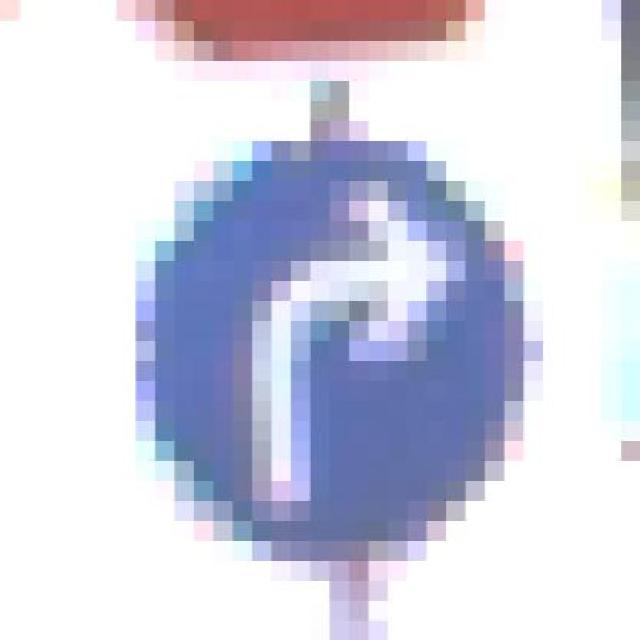Turn right ahead: (135, 100, 563, 580)
